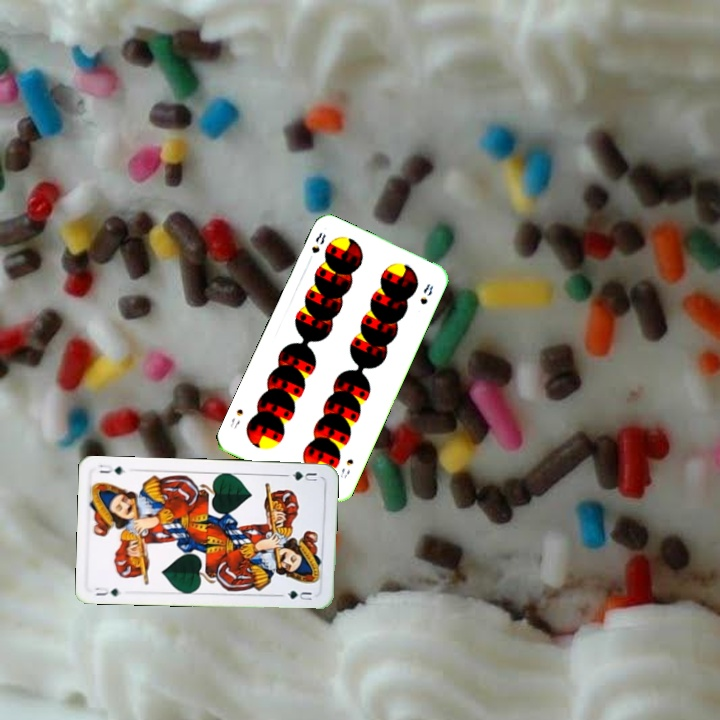GU: (288, 467, 319, 484), (92, 583, 124, 599)
S8: (307, 229, 329, 256), (336, 455, 356, 480)
